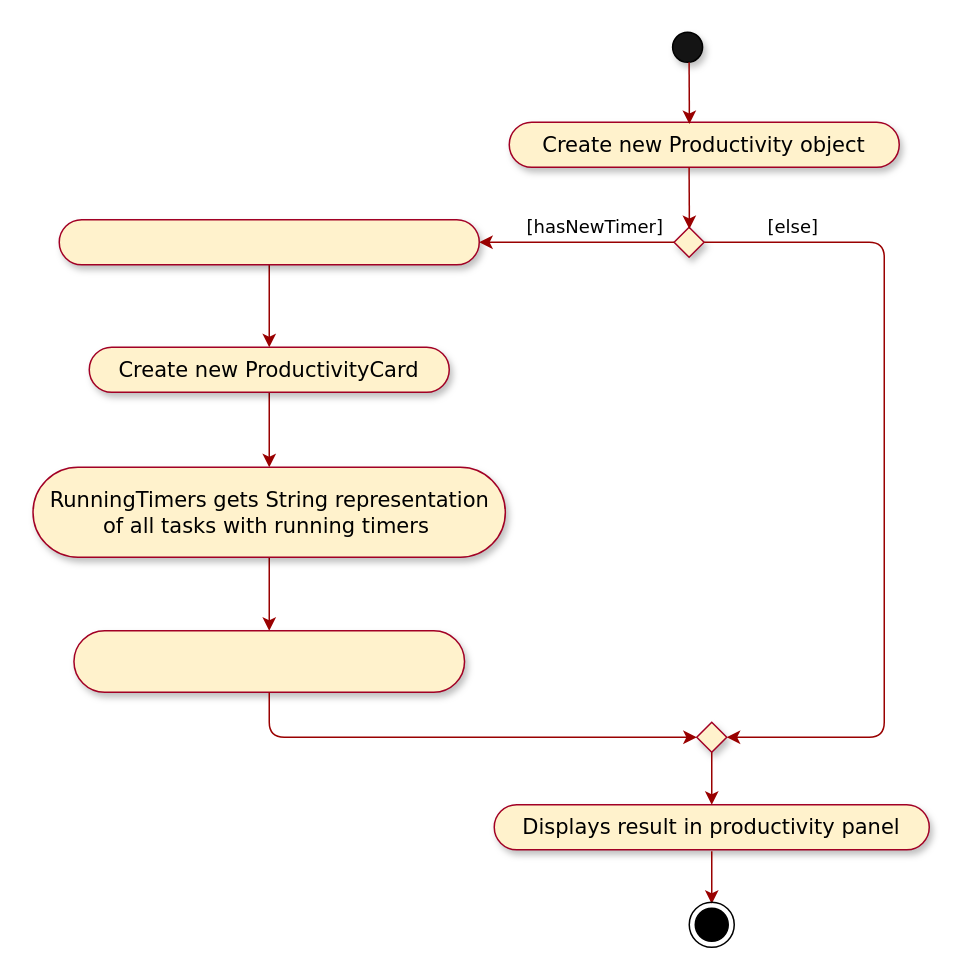
This 965x974 diagram has some shape labels left out. The centre of each missing label's shape, as x and y in pixels:
Create new RunningTimers object: point 270,243
ProductivityCard updates text on productivity panel: point 270,663
